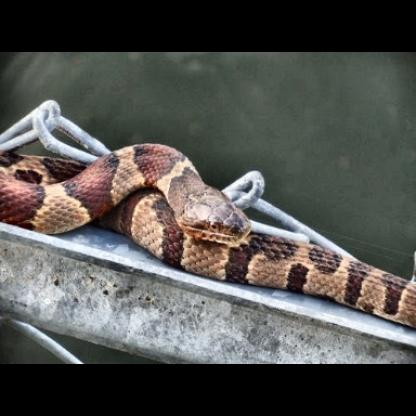Snake: (4, 128, 416, 354)
